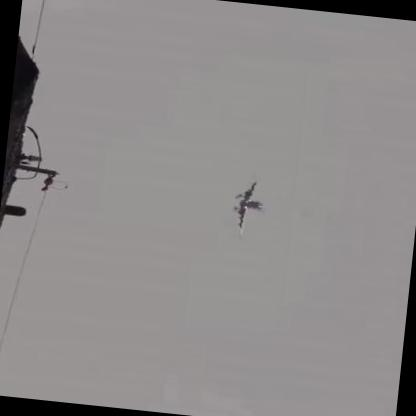plane: (227, 175, 270, 243)
